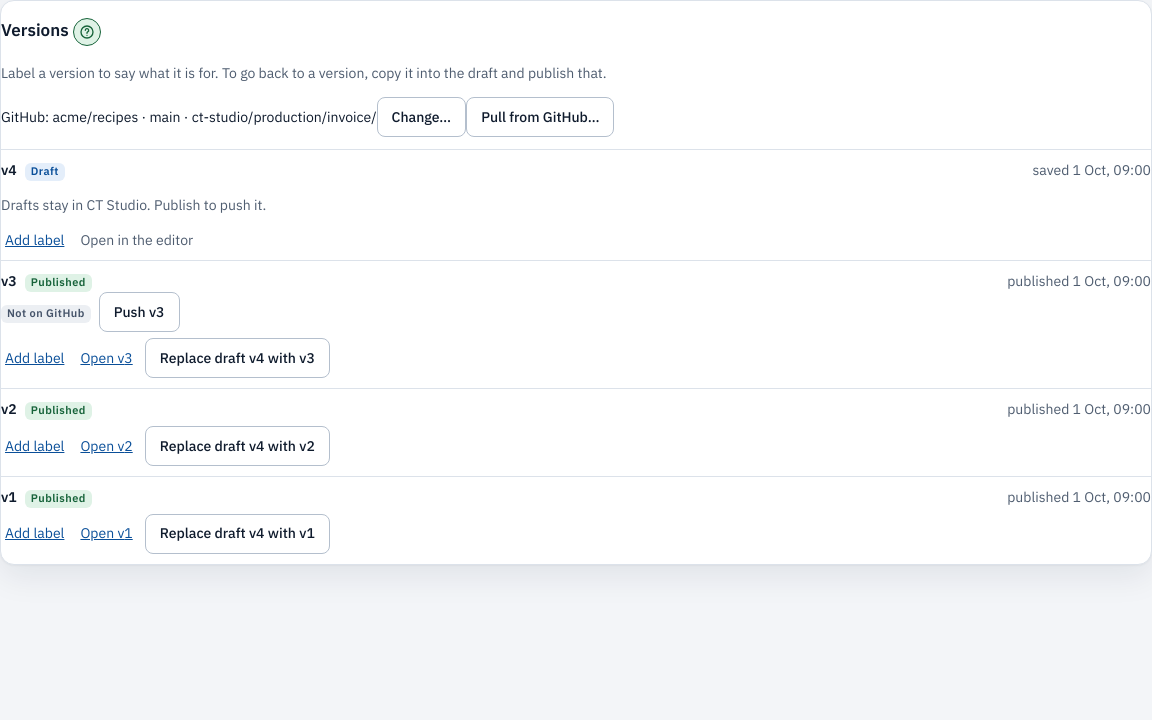
Test: VersionsPanel GitHub sync › shows the folder, Pull from GitHub… and Change… for a linked type
Expected: the text "GitHub: acme/recipes · main · ct-studio/production/invoice/" is shown, [1,108,377,126]
Click the button "Pull from GitHub…".
click(540, 117)  # box [466,97,614,137]
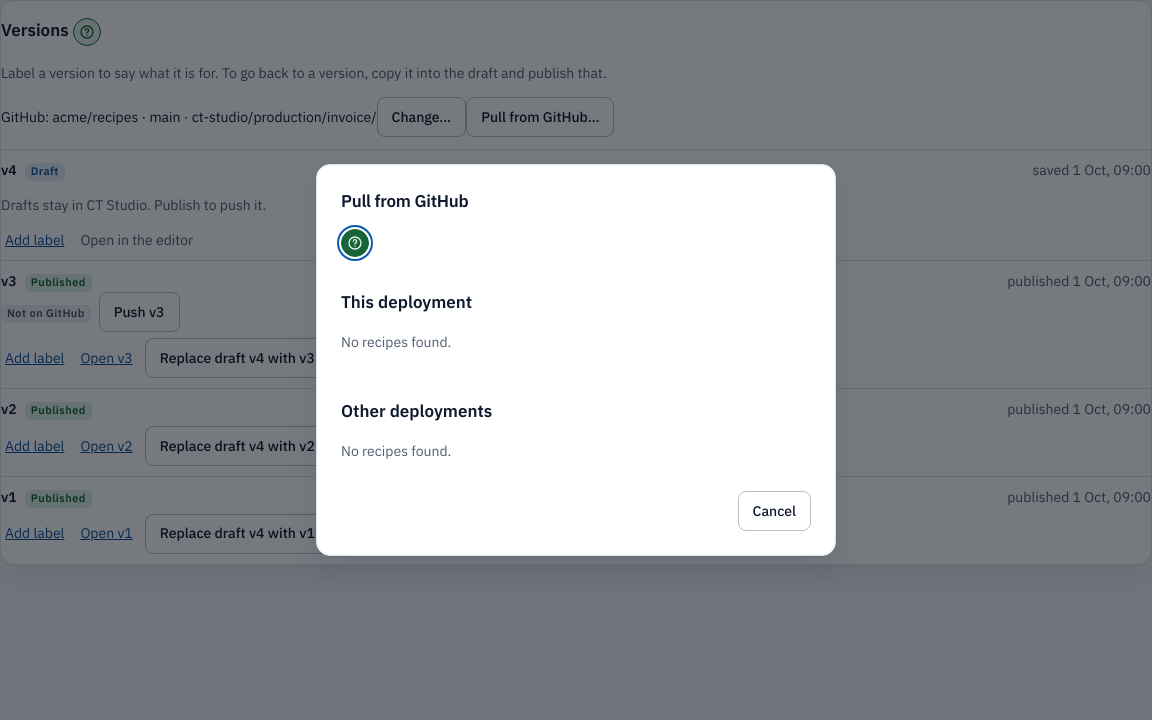
Expected: the button "Change…" is shown, [377,97,466,137]
Expected: the dialog "Pull from GitHub" is shown, [316,164,836,556]
